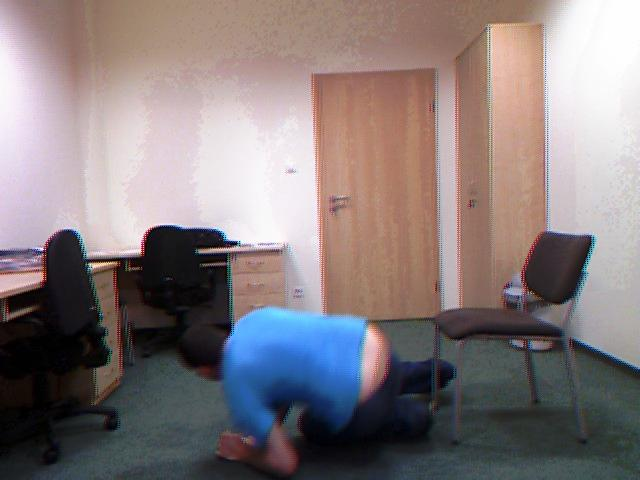fall: (179, 308, 455, 477)
